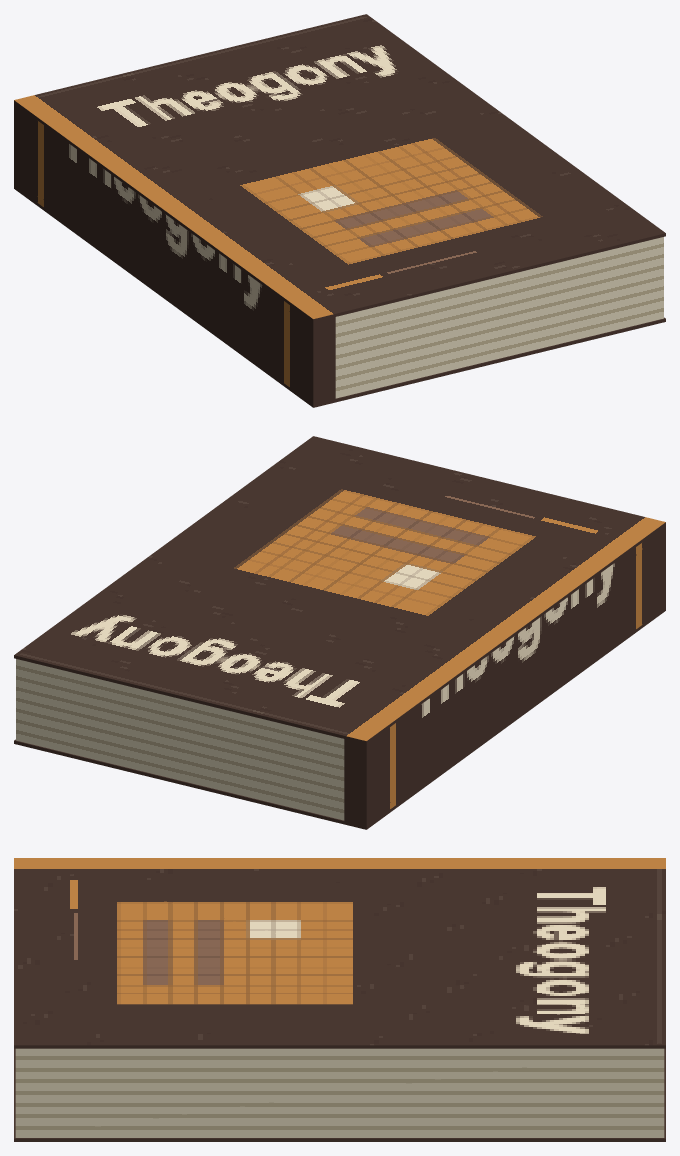
The model's file is holybook_theogony.glb.
The picture shows the model from 3 angles, top to bottom: view 1: azimuth 30°, elevation 25°; view 2: azimuth 150°, elevation 25°; view 3: azimuth 270°, elevation 25°; orthographic projection. The views are drawn at different scales.
Visible parts, largest first — view 1: block_front cover, block_page block, block_spine, block_back cover; view 2: block_front cover, block_page block, block_spine, block_back cover; view 3: block_front cover, block_page block, block_back cover.
Part boxes in pixels (bbox=[...]): block_front cover: bbox=[14, 14, 665, 322]; block_page block: bbox=[335, 237, 663, 398]; block_spine: bbox=[14, 103, 335, 404]; block_back cover: bbox=[14, 186, 665, 407]; block_front cover: bbox=[14, 436, 665, 744]; block_page block: bbox=[16, 659, 344, 820]; block_spine: bbox=[344, 525, 665, 826]; block_back cover: bbox=[14, 608, 665, 829]; block_front cover: bbox=[14, 858, 665, 1048]; block_page block: bbox=[15, 1048, 664, 1137]; block_back cover: bbox=[14, 1048, 665, 1141].
Bounding box in the file's own units: 0.1414 × 0.034 × 0.208.
1 material, 1 textured.
